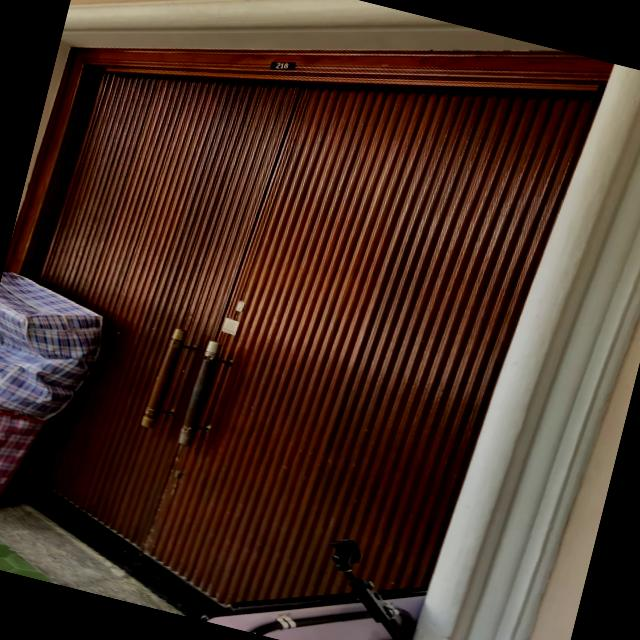room218: (267, 54, 298, 76)
